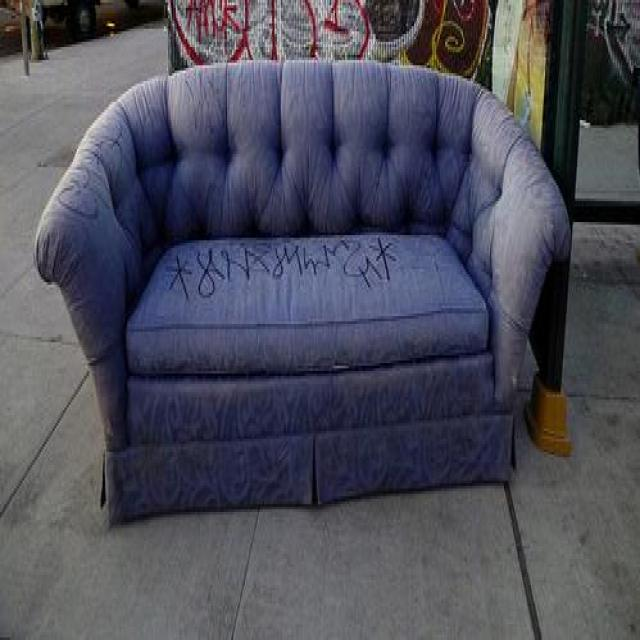sofa: (33, 50, 574, 537)
